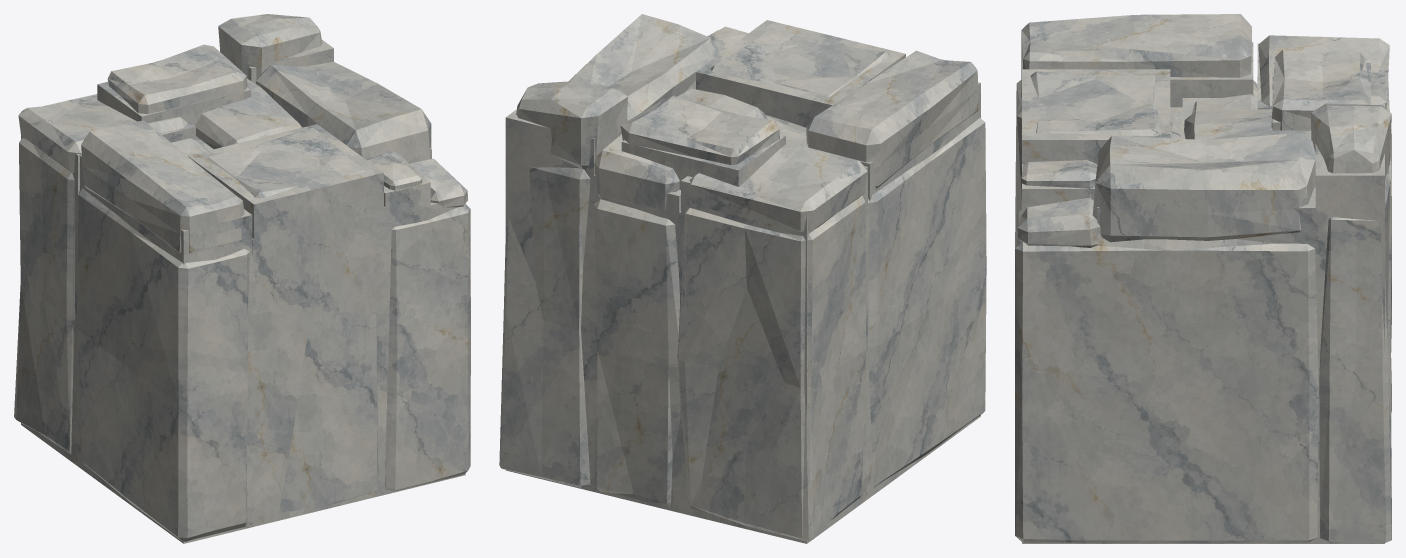
File: wall_stone_08.glb
3 renders of one model, left to right at view 1: azimuth 30°, elevation 25°; view 2: azimuth 150°, elevation 25°; view 3: azimuth 270°, elevation 25°, orthographic. The views are drawn at different scales.
Visible parts, largest first — view 1: WallStone08; view 2: WallStone08; view 3: WallStone08.
Boxes of the visible parts, left/top/right/bottom form: WallStone08: left=14, top=14, right=470, bottom=543; WallStone08: left=499, top=14, right=986, bottom=543; WallStone08: left=1015, top=14, right=1391, bottom=543.
Bounding box in the file's own units: 1 × 1.16 × 1.
Materials: 1 (1 with a texture image).
